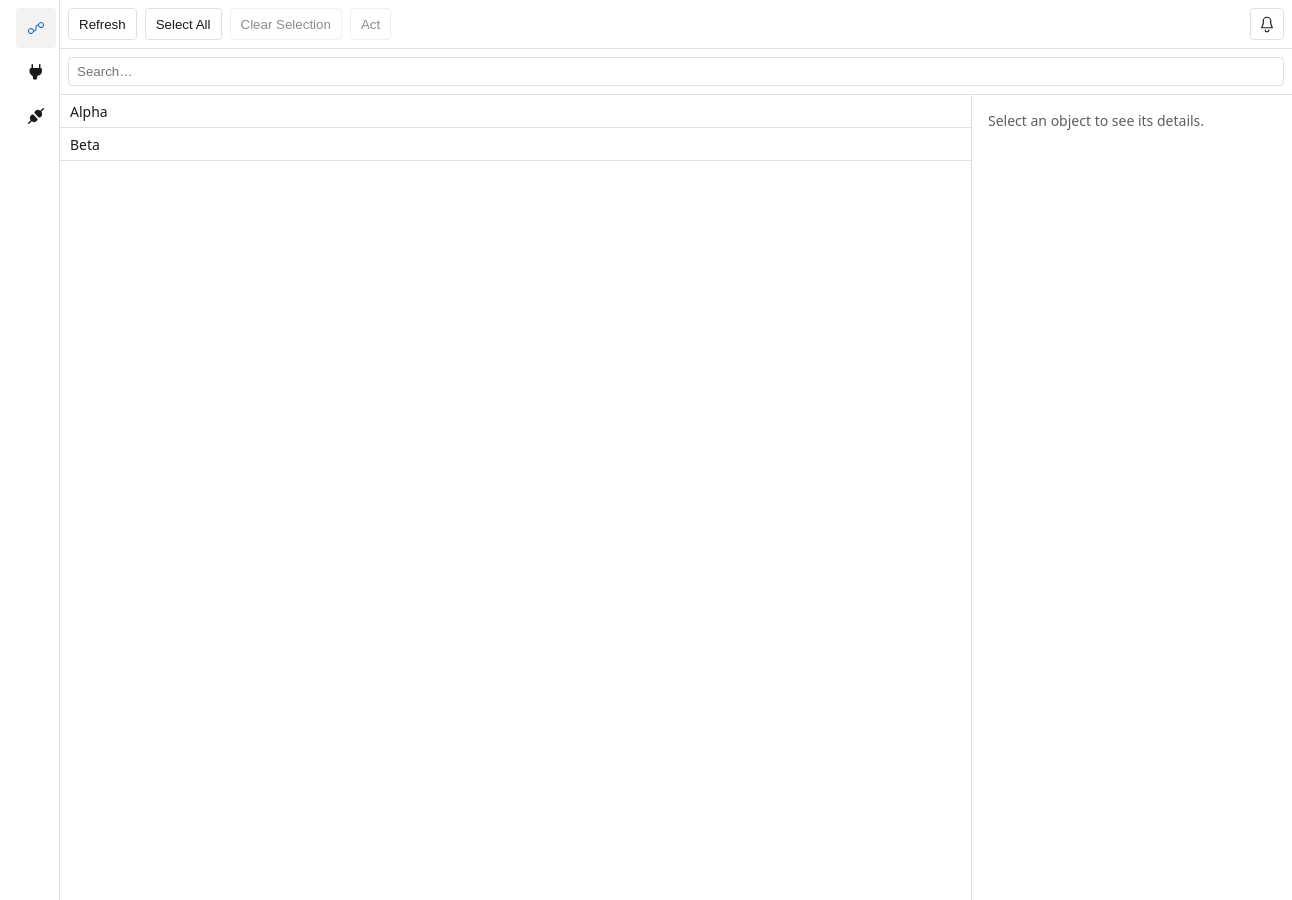
Test: non-blocking operations › shows a per-object spinner during an operation, keeps selection usable, then reloads only that object
The image size is (1292, 900).
Click the option "Alpha". click: x=89, y=111
box: [60,95,971,128]
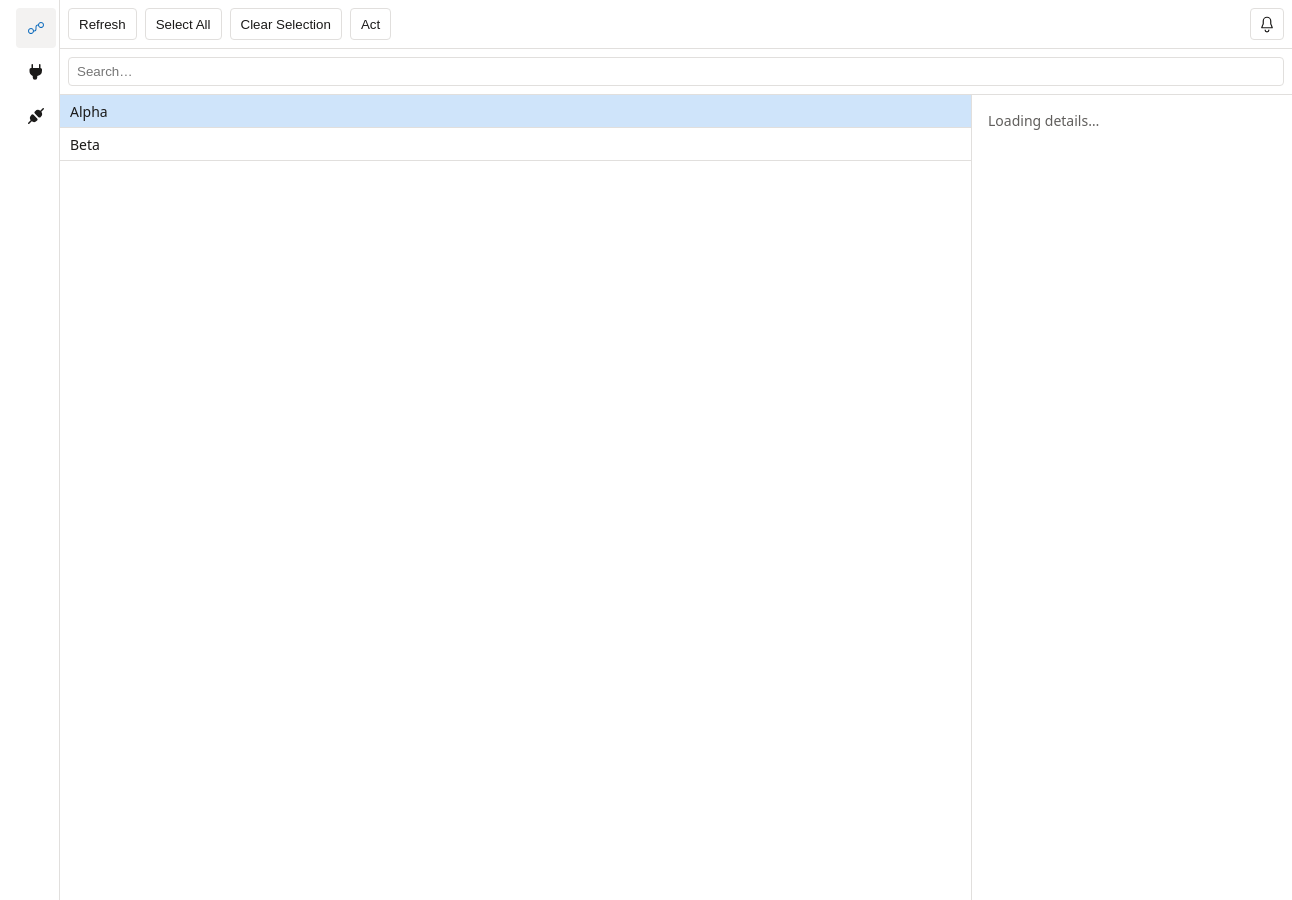
Click the button "Act". click: x=371, y=24
box: [350,8,391,40]
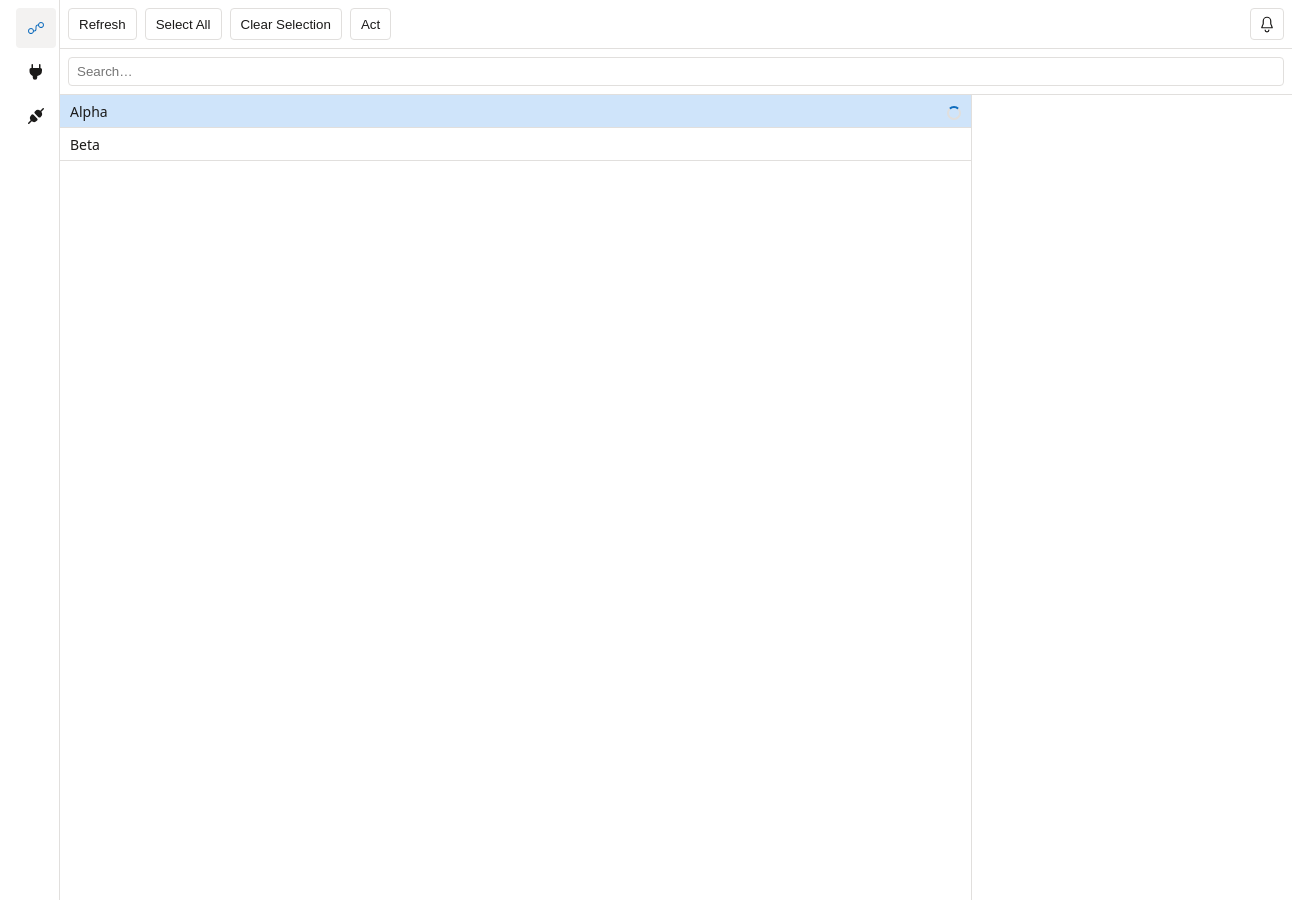
Expected: the message named "Working" is shown, [947,106,961,120]
Note: The user can still select another object without waiting.
Click the option "Beta". click: x=85, y=144
box: [60,128,971,161]
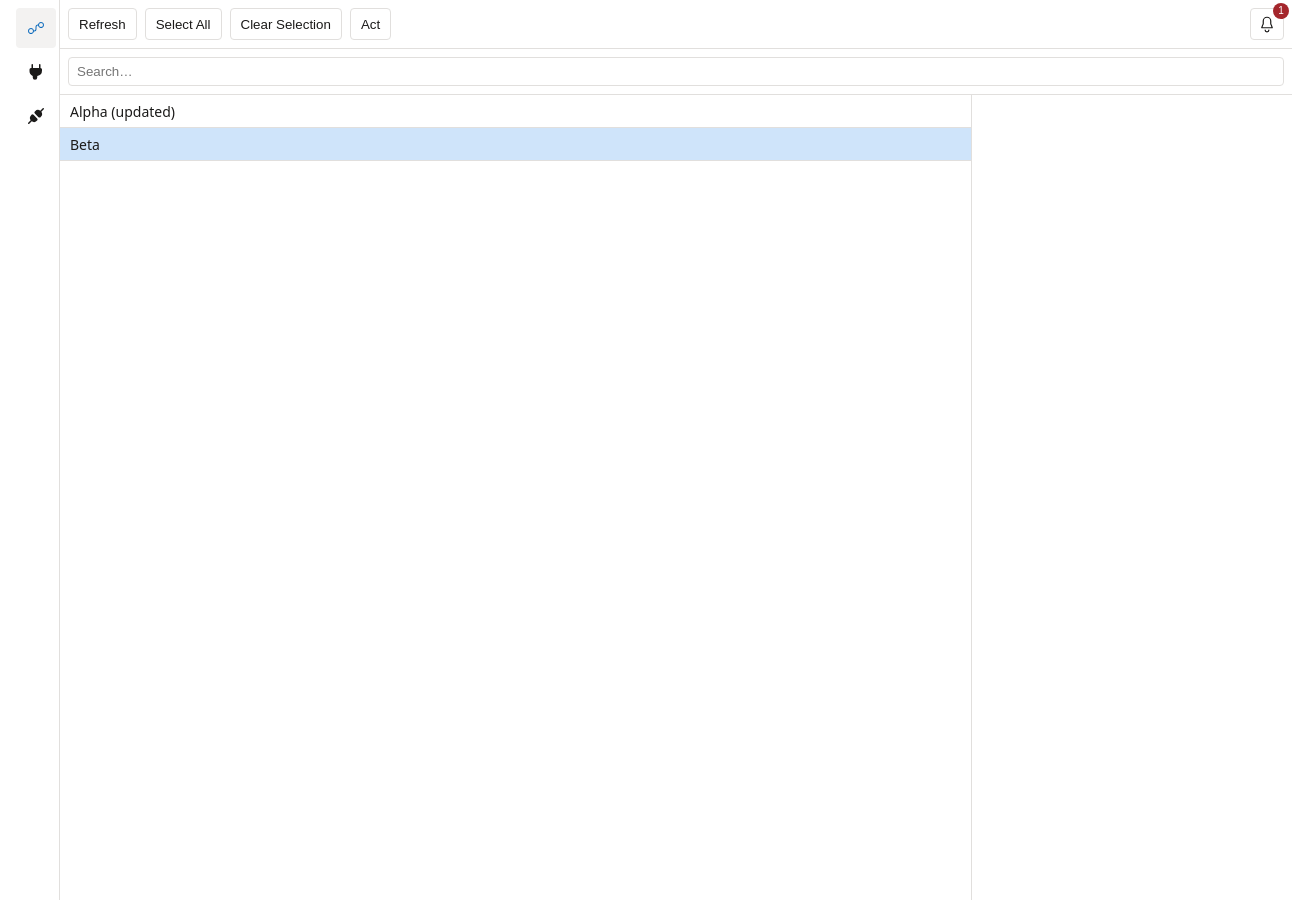
Expected: the text "Alpha (updated)" is shown, [70,102,175,120]
Expected: the message "Working" is gone
